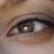eye: (18, 21, 34, 33)
